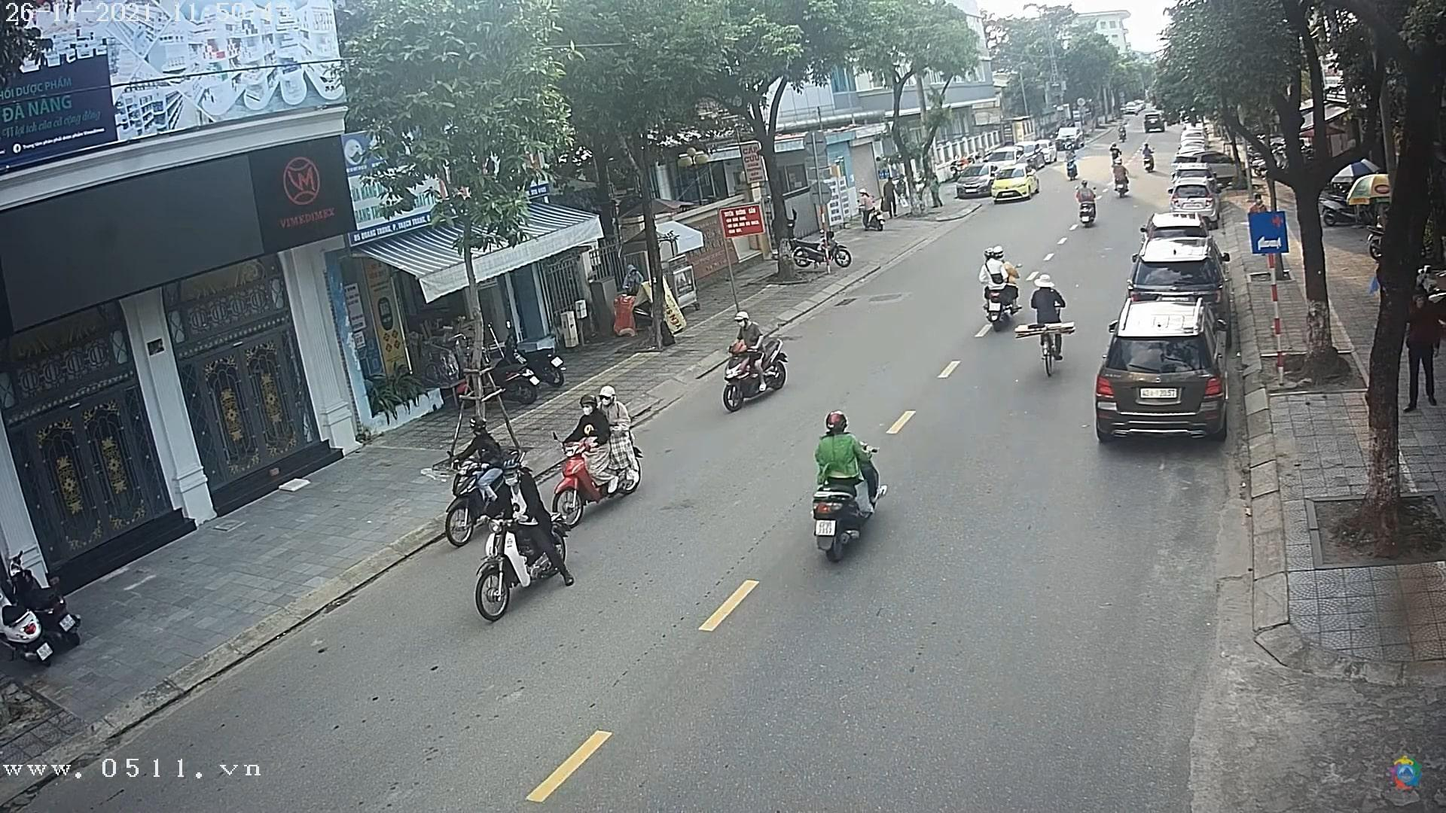car: (1096, 301, 1226, 442), (1131, 238, 1227, 298), (1142, 214, 1214, 248), (987, 165, 1039, 204), (1167, 185, 1214, 217)
motorbike: (469, 516, 576, 626), (552, 435, 649, 526), (811, 476, 880, 564), (721, 336, 787, 410), (985, 279, 1020, 332), (1075, 187, 1097, 226)
